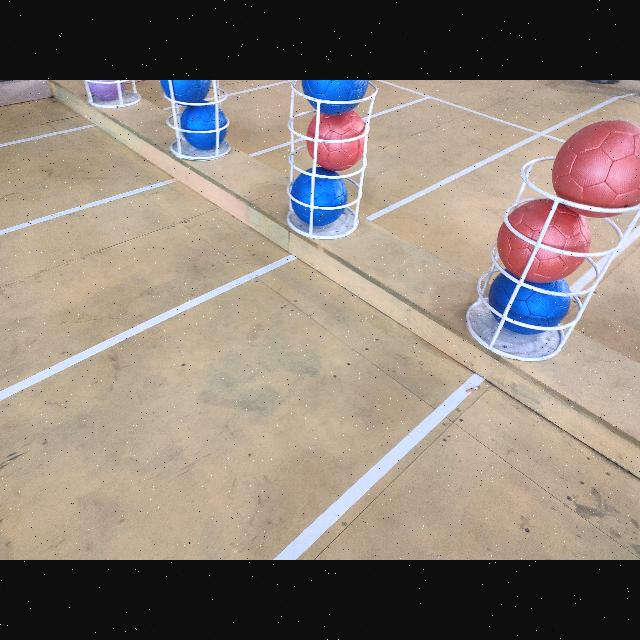B: (488, 282, 572, 334), (290, 168, 348, 226), (302, 80, 370, 114), (180, 101, 226, 150), (159, 80, 211, 106)
R: (552, 121, 640, 216), (497, 198, 591, 282), (306, 110, 366, 170)
